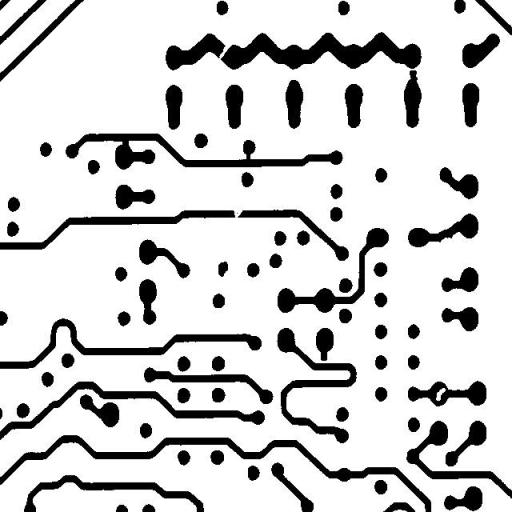copper: (210, 254, 236, 284)
mousebite: (432, 230, 458, 260)
open: (211, 32, 243, 66), (226, 200, 250, 227)
pin-hole: (428, 380, 453, 408)
short: (114, 127, 138, 160), (238, 134, 258, 169)
spur: (313, 335, 334, 368), (402, 62, 424, 92)
